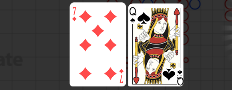7D: (118, 67, 124, 84)
